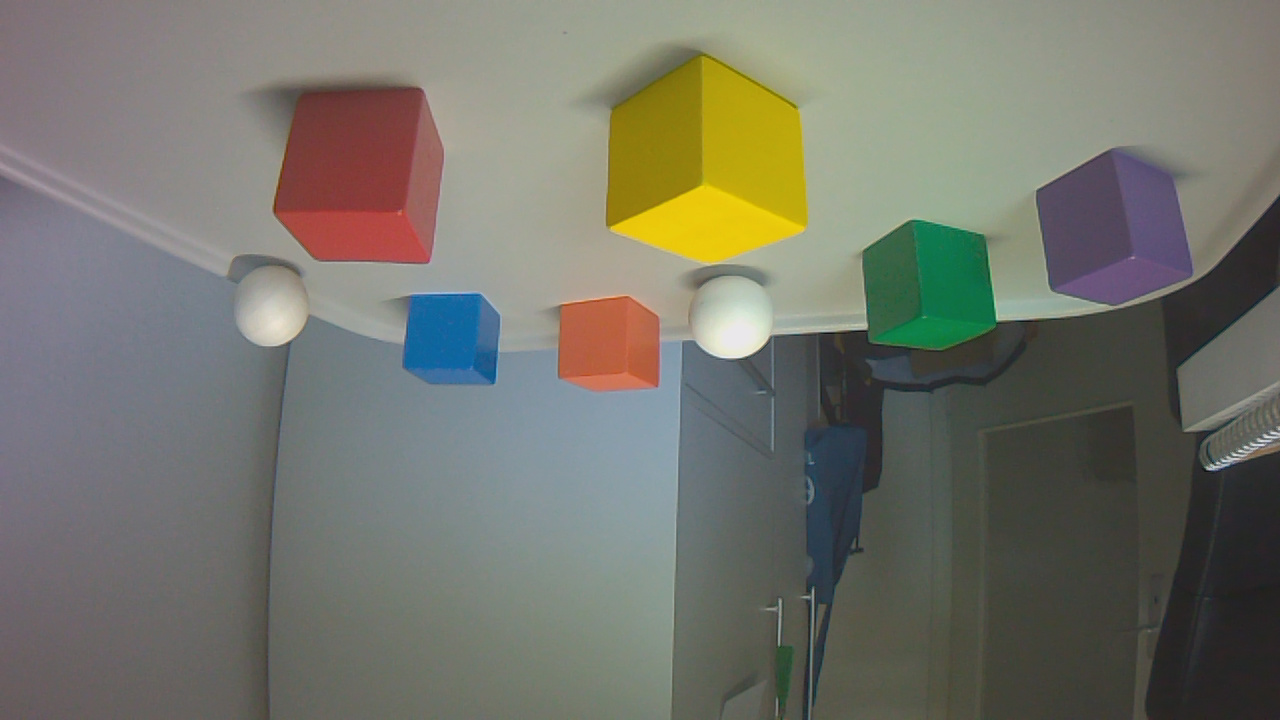ball: (691, 280, 778, 365), (235, 268, 315, 353)
cube_blue: (405, 297, 507, 393)
cube_green: (864, 223, 1003, 359)
cube_orange: (561, 300, 667, 399)
cube_purple: (1039, 151, 1201, 313)
cube_red: (278, 89, 449, 271)
cube_yellow: (609, 60, 813, 271)
